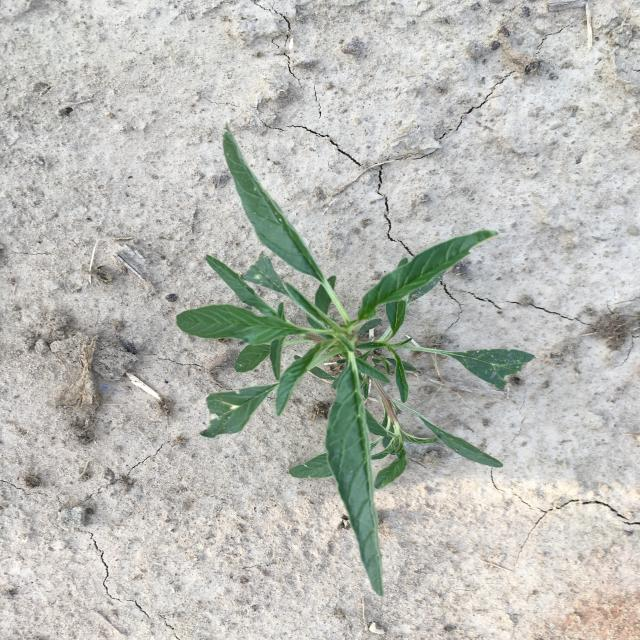Waterhemp: (175, 122, 536, 598)
